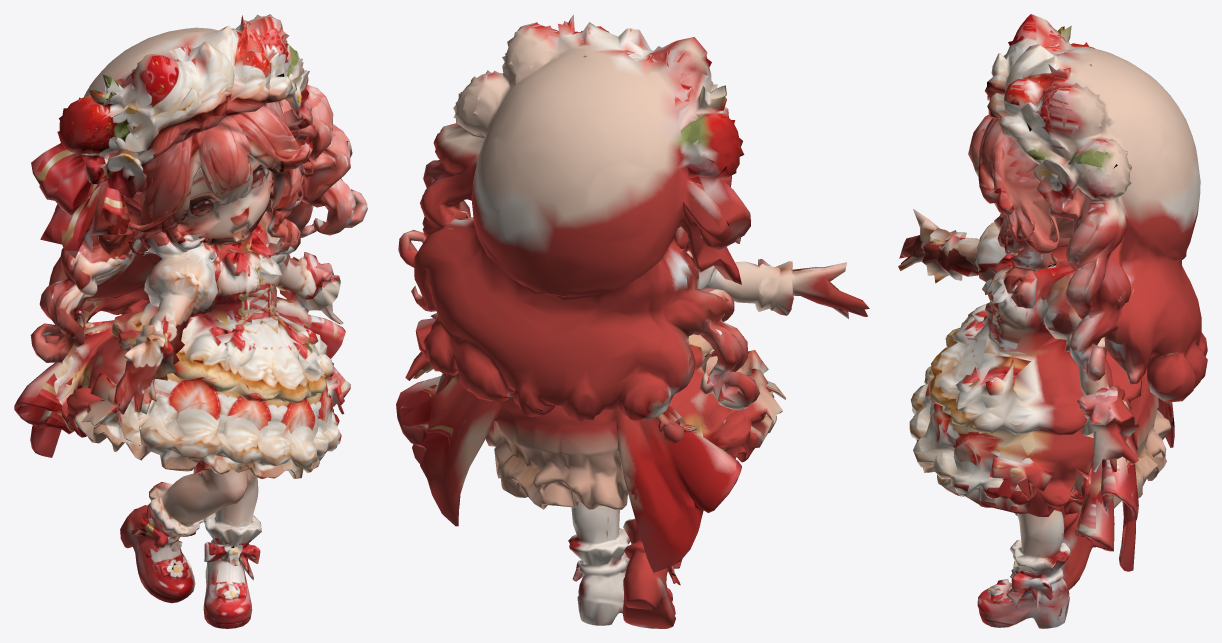
File: strawberry_shortcake_painted.glb
3 renders of one model, left to right at view 1: azimuth 30°, elevation 25°; view 2: azimuth 150°, elevation 25°; view 3: azimuth 270°, elevation 25°, orthographic. The views are drawn at different scales.
Parts seen in each view (by area): view 1: Body; view 2: Body; view 3: Body.
Part boxes in pixels (x1,y1,x2,y2): Body: (14, 14, 367, 628); Body: (396, 14, 869, 628); Body: (898, 14, 1207, 628).
Bounding box in the file's own units: 0.6368 × 1 × 0.4869.
2 materials, 2 textured.
